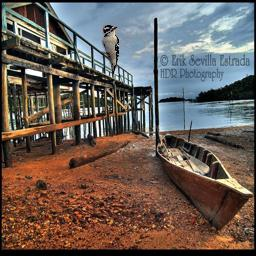Woodpecker: (101, 25, 119, 77)
